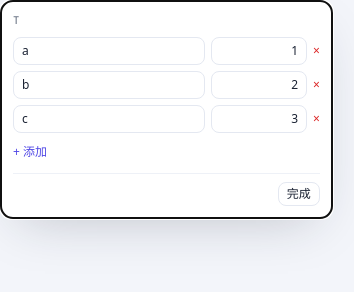
Test case: ItemEditor › 点「添加」按钮新增空行
Expected: the number of buttons named "删除该行" is 3, [313,42,320,60]; [313,76,320,94]; [313,110,320,128]
Click the button with aria-label "添加行".
click(30, 152)  # box [13,143,47,161]
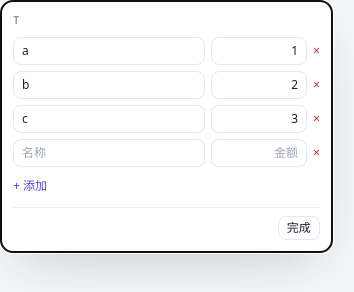
Expected: the number of buttons named "删除该行" is 4, [313,42,320,60]; [313,76,320,94]; [313,110,320,128]; [313,144,320,162]
